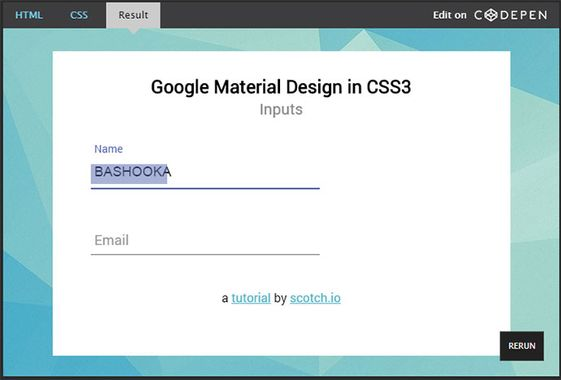_form_: (1, 1, 416, 380)
button: (496, 329, 547, 364)
field_line: (88, 161, 323, 192), (88, 231, 325, 257)
field_with_label: (86, 144, 326, 193)
